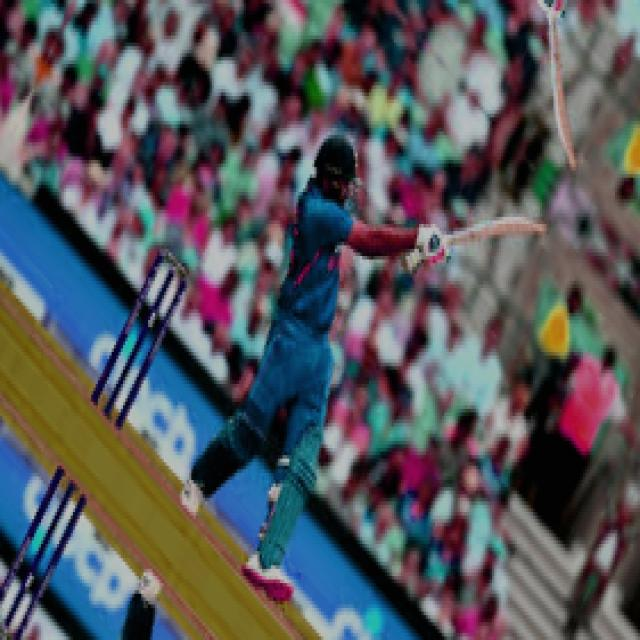toe: (520, 216, 550, 238)
